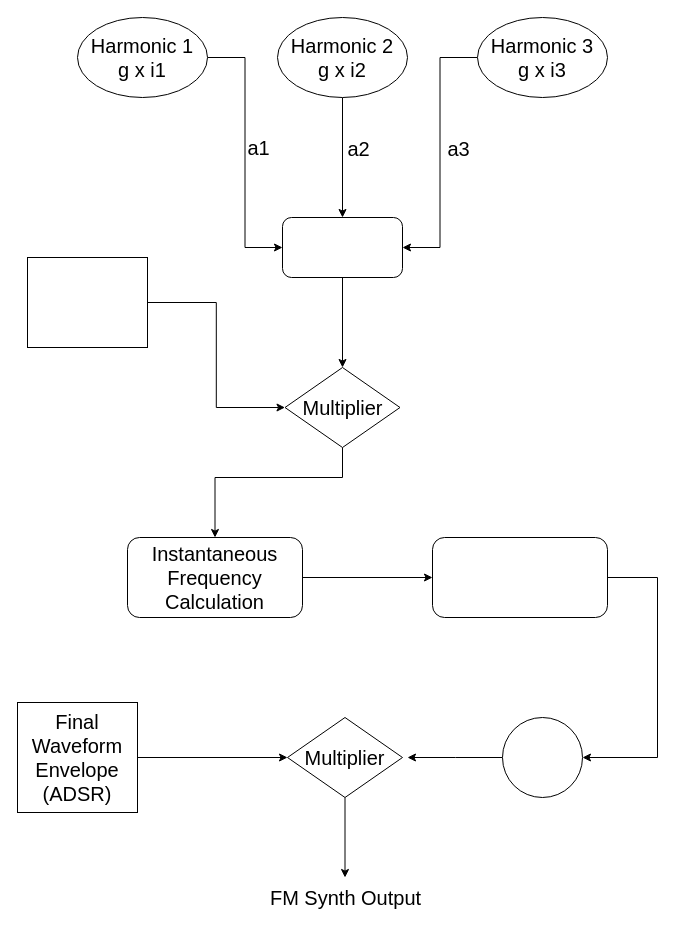
This 683x935 diagram has some shape labels left out. Here are the shapes that lost their labels. From the top down, the box of each, then its label:
(282, 216, 402, 278): Weighted Sum
(26, 256, 148, 348): Modulation Envelope (ADSR)
(432, 536, 608, 618): Phase Accumulation
(502, 716, 582, 798): Sin
